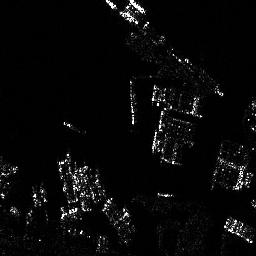ship: (224, 214, 256, 244), (128, 79, 138, 125), (130, 1, 151, 16)
